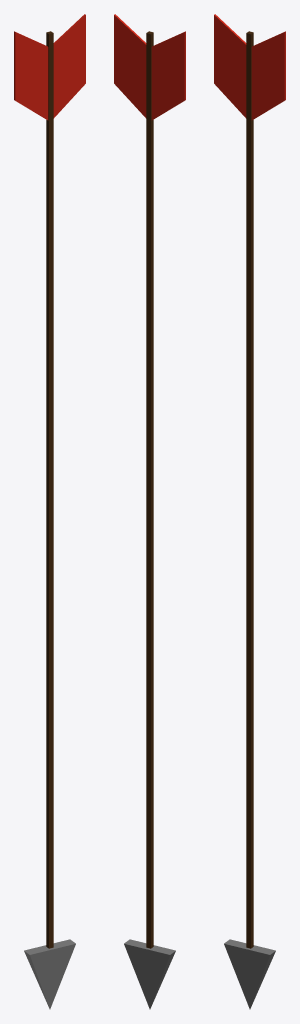
Rendered from scene_8z6begLxV2.glb.
3 views of the same model, side by side, from view 1: azimuth 30°, elevation 25°; view 2: azimuth 150°, elevation 25°; view 3: azimuth 330°, elevation 25° (orthographic).
Visible parts, largest first — view 1: Arrow_Cube.020; view 2: Arrow_Cube.020; view 3: Arrow_Cube.020.
Part boxes in pixels (bbox=[...]): Arrow_Cube.020: bbox=[14, 14, 85, 1009]; Arrow_Cube.020: bbox=[114, 14, 185, 1009]; Arrow_Cube.020: bbox=[214, 14, 285, 1009].
Size of the model in its own units: 0.3326 by 4.44 by 0.0492.
